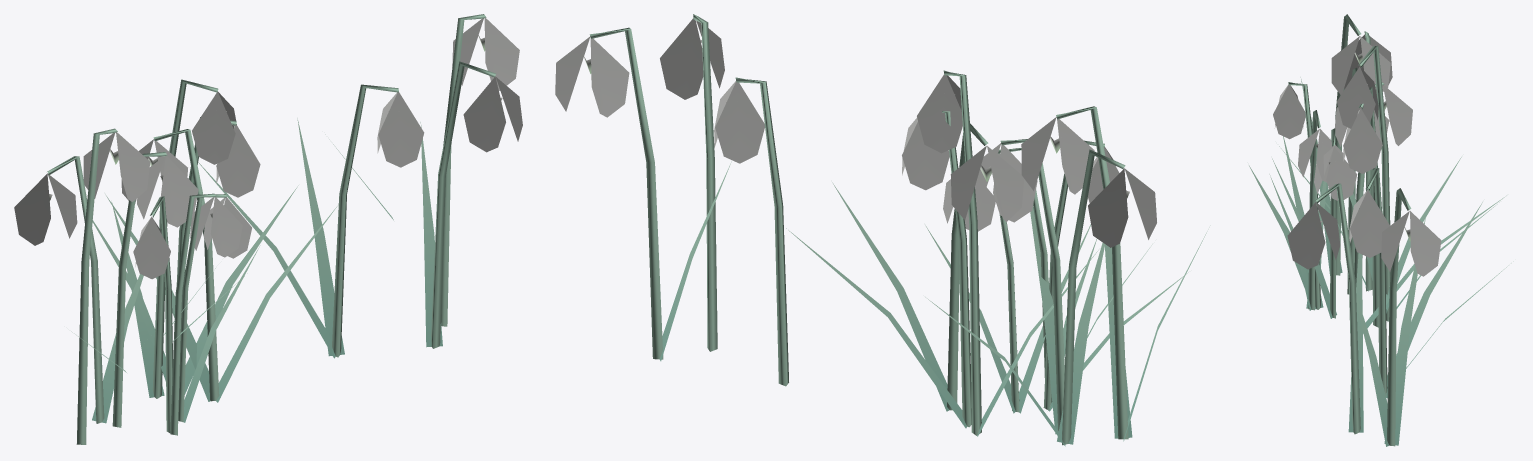
Rendered from snowdrop_patch_b.glb.
The picture shows the model from 3 angles, left to right: view 1: azimuth 30°, elevation 25°; view 2: azimuth 150°, elevation 25°; view 3: azimuth 270°, elevation 25°; orthographic projection. The views are drawn at different scales.
Visible parts, largest first — view 1: soft; view 2: soft; view 3: soft.
Boxes of the visible parts, x1=… form: soft: x1=14, y1=14, x2=522, y2=444; soft: x1=555, y1=14, x2=1210, y2=446; soft: x1=1249, y1=14, x2=1513, y2=446.
Bounding box in the file's own units: 0.4971 × 0.282 × 0.253.
